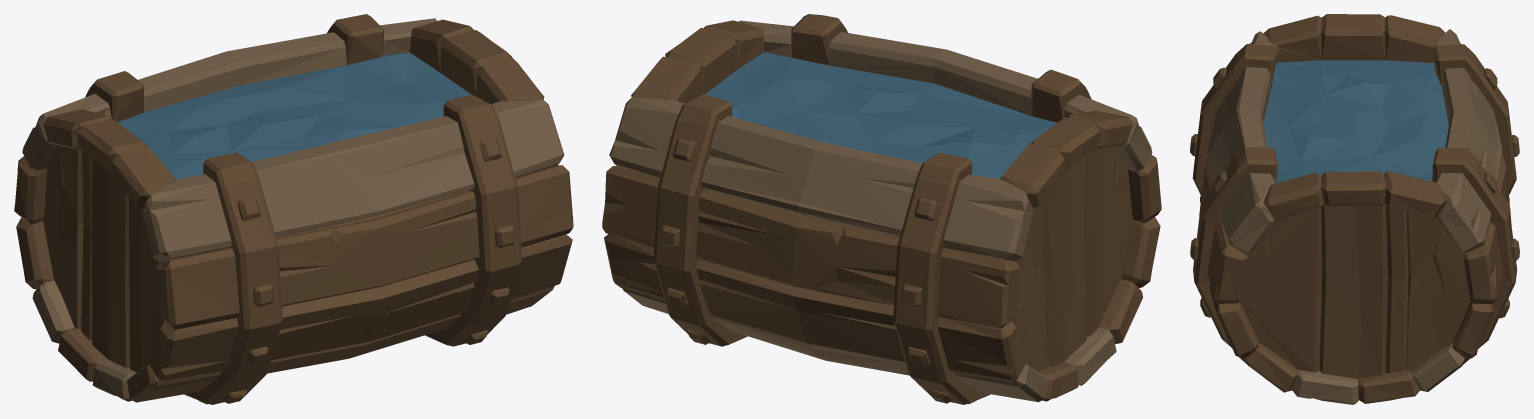
File: WoodenQuenchingTrough.fbx
3 views of the same model, side by side, from view 1: azimuth 30°, elevation 25°; view 2: azimuth 150°, elevation 25°; view 3: azimuth 270°, elevation 25° (orthographic). The views are drawn at different scales.
Parts seen in each view (by area): view 1: WoodenQuenchingTrough; view 2: WoodenQuenchingTrough; view 3: WoodenQuenchingTrough.
Boxes of the visible parts, box(x1,y1,x2,y2) form: WoodenQuenchingTrough: box(14, 14, 573, 404); WoodenQuenchingTrough: box(602, 14, 1161, 404); WoodenQuenchingTrough: box(1190, 14, 1519, 404).
Bounding box in the file's own units: 1.2 × 0.9595 × 0.7388.
